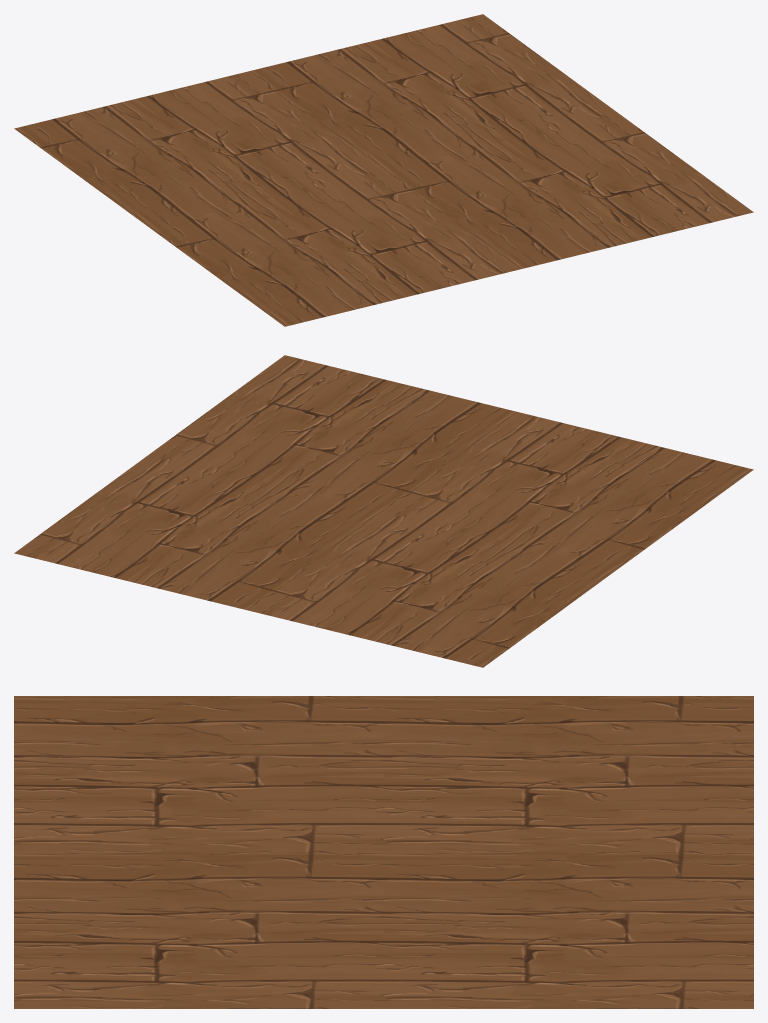
File: floor_wood.glb
3 views of the same model, one above another, from view 1: azimuth 30°, elevation 25°; view 2: azimuth 150°, elevation 25°; view 3: azimuth 270°, elevation 25° (orthographic). The views are drawn at different scales.
Parts seen in each view (by area): view 1: Plane001; view 2: Plane001; view 3: Plane001.
Part boxes in pixels (bbox=[...]): Plane001: bbox=[14, 14, 753, 326]; Plane001: bbox=[14, 355, 753, 667]; Plane001: bbox=[14, 696, 753, 1008].
Bounding box in the file's own units: 47.39 × 1.05e-14 × 47.39.
1 material, 1 textured.
